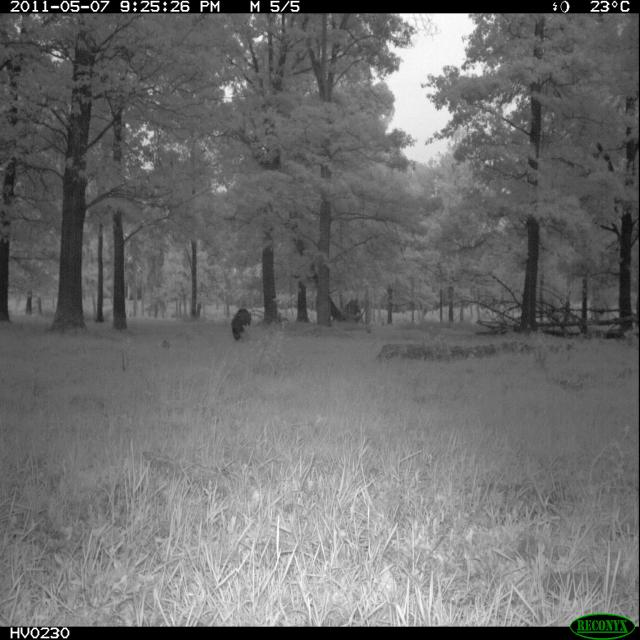boar: (219, 296, 258, 353)
